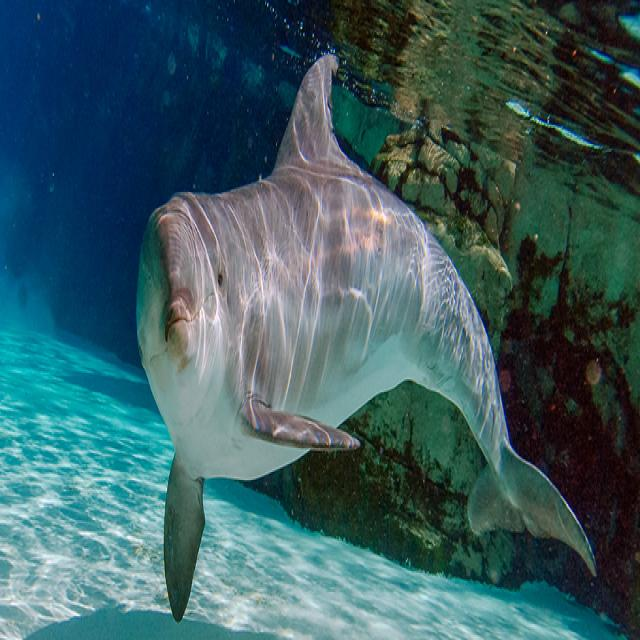dolphin: (136, 56, 595, 620)
